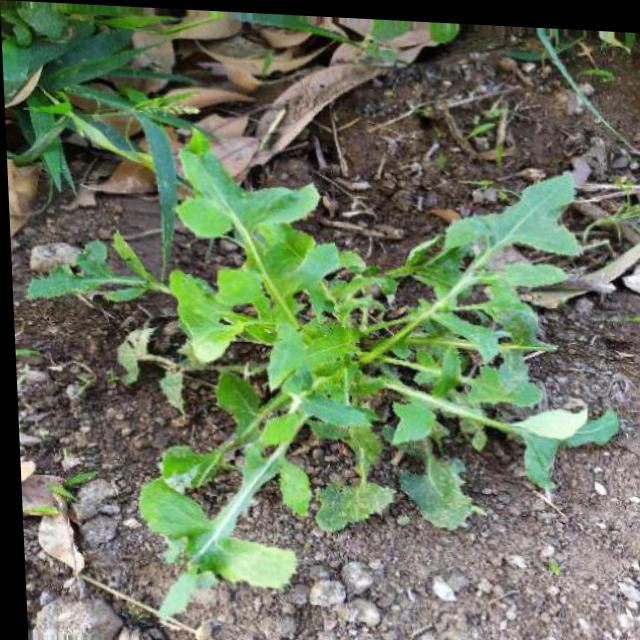weed: (77, 138, 618, 617)
